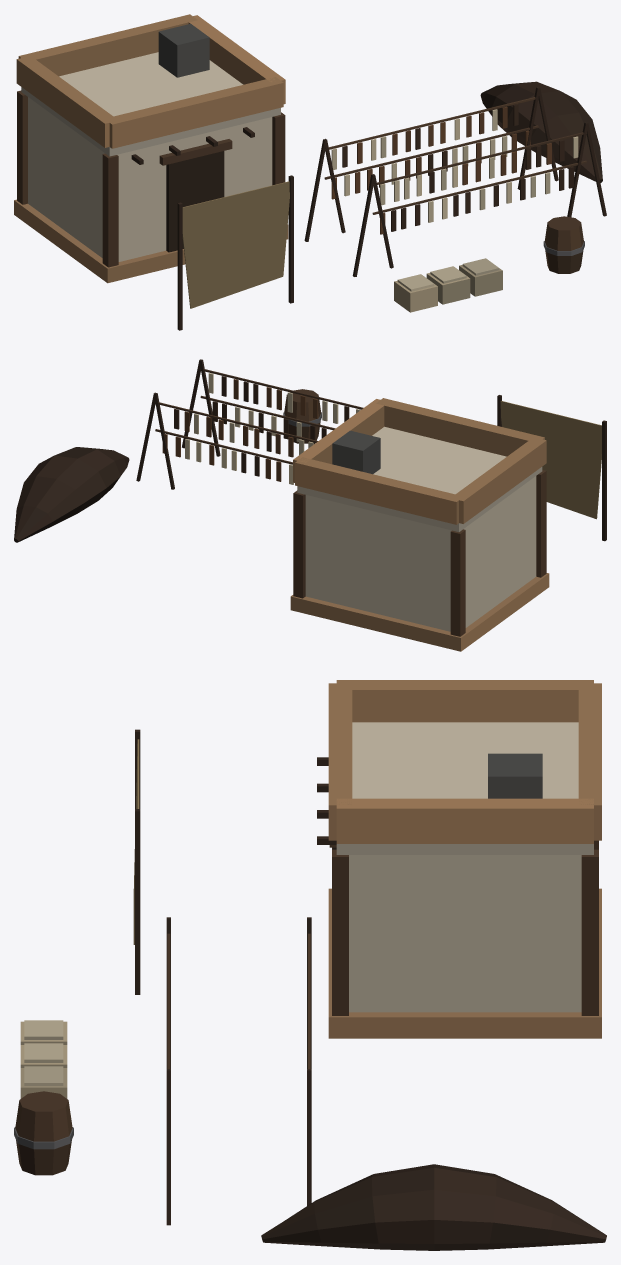
Rendered from walk_sunborn_fishery.glb.
The picture shows the model from 3 angles, top to bottom: view 1: azimuth 30°, elevation 25°; view 2: azimuth 150°, elevation 25°; view 3: azimuth 270°, elevation 25°; orthographic projection. The views are drawn at different scales.
Visible parts, largest first — view 1: walk_sunborn_fishery, walk_sunborn_fishery_roof; view 2: walk_sunborn_fishery, walk_sunborn_fishery_roof; view 3: walk_sunborn_fishery, walk_sunborn_fishery_roof.
Part boxes in pixels (x1,y1,x2,y2): walk_sunborn_fishery: (14,81,606,330); walk_sunborn_fishery_roof: (16,14,285,156); walk_sunborn_fishery: (14,359,606,651); walk_sunborn_fishery_roof: (293,398,546,531); walk_sunborn_fishery: (14,729,606,1250); walk_sunborn_fishery_roof: (328,680,601,854).
Size of what is drawn, in the model's own units: 10.9 by 3.47 by 7.6.
2 materials, 2 textured.
